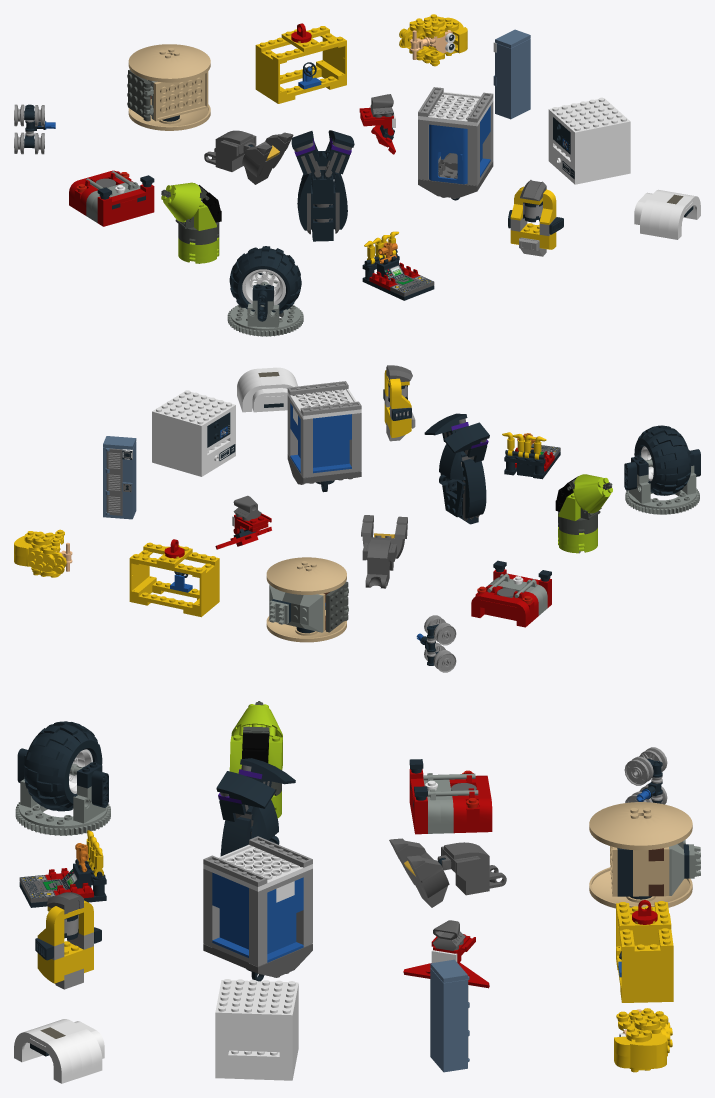
3 views of the same model, one above another, from view 1: azimuth 30°, elevation 25°; view 2: azimuth 150°, elevation 25°; view 3: azimuth 270°, elevation 25° (orthographic). The views are drawn at different scales.
Visible parts, largest first — view 1: 3961 (×2), 3958 (×2), 32180, 3032, 4215a (×2), 2855, 4182, 2453b (×2), 3943b, 44570, 6595, 4509 (+4 smaller); view 2: 3961 (×2), 3958 (×2), 32180, 3460 (×3), 2855, 93606 (×2), 4215a (×2), 2453b (×2), 4215b, 3943b, 3666 (×2), 44570 (+4 smaller); view 3: 3958 (×3), 3961 (×2), 32180, 2453b (×3), 4215a (×2), 93606 (×3), 4215b (×2), 2855, 3666 (×2), 3001, 3943b, 64225 (+10 smaller).
Boxes of the visible parts, x1,y1,x2,y2 form: 3961 (×2): (128, 44, 210, 130); 3958 (×2): (418, 92, 630, 136); 32180: (229, 246, 301, 313); 3032: (153, 71, 208, 121); 4215a (×2): (255, 33, 346, 96); 2855: (227, 282, 303, 336); 4182: (429, 124, 467, 184); 2453b (×2): (418, 119, 479, 181); 3943b: (161, 182, 201, 222); 44570: (127, 69, 150, 121); 6595: (242, 269, 285, 304); 4509: (418, 163, 493, 198); 3961 (×2): (266, 557, 346, 642); 3958 (×2): (152, 389, 361, 429); 32180: (634, 425, 690, 495); 3460 (×3): (129, 542, 219, 613); 2855: (625, 473, 699, 514); 93606 (×2): (444, 422, 489, 502); 4215a (×2): (129, 550, 219, 609); 2453b (×2): (300, 413, 361, 474); 4215b: (313, 436, 351, 473); 3943b: (573, 474, 612, 513); 3666 (×2): (287, 381, 361, 415); 44570: (326, 581, 348, 632); 3958 (×3): (203, 844, 312, 1061); 3961 (×2): (589, 802, 692, 908); 32180: (24, 721, 102, 811); 2453b (×3): (203, 868, 312, 961); 4215a (×2): (616, 906, 673, 993); 93606 (×3): (216, 758, 295, 856); 4215b (×2): (212, 900, 303, 962); 2855: (15, 779, 110, 835); 3666 (×2): (203, 836, 312, 886); 3001: (37, 941, 93, 974); 3943b: (231, 704, 282, 737); 64225: (248, 800, 278, 843).
Size of the model in its own units: 1052 by 224 by 1063.
